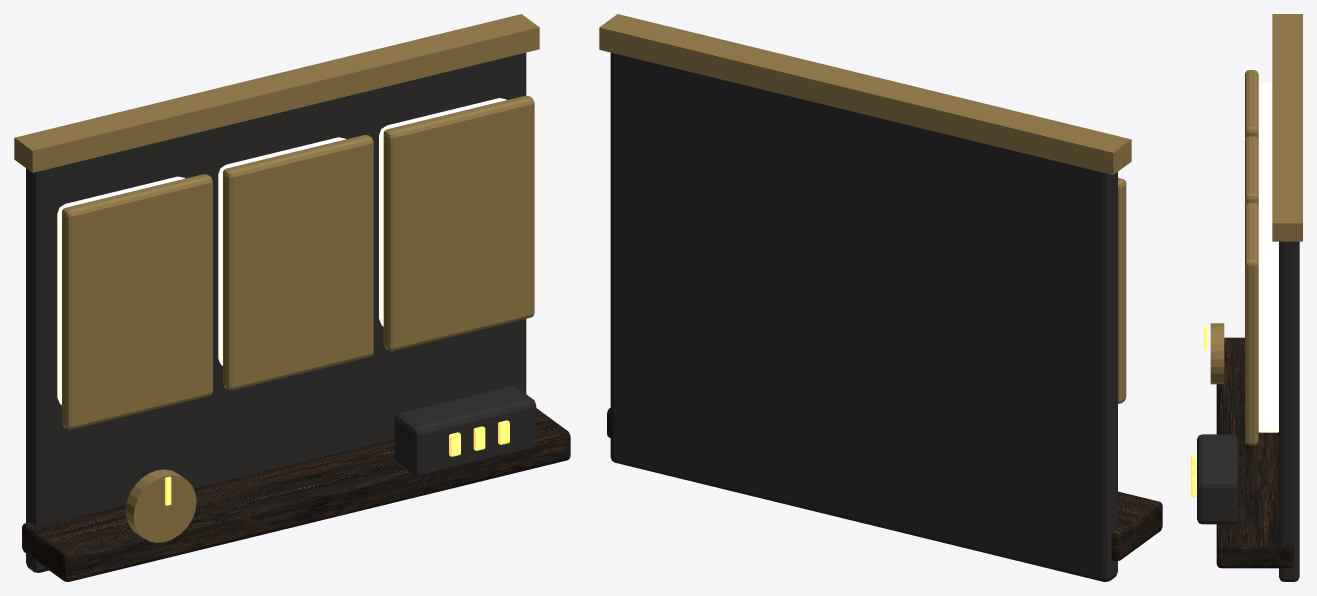
File: room_exchange.glb
The picture shows the model from 3 angles, left to right: view 1: azimuth 30°, elevation 25°; view 2: azimuth 150°, elevation 25°; view 3: azimuth 270°, elevation 25°; orthographic projection. The views are drawn at different scales.
Parts seen in each view (by area): view 1: room_exchange; view 2: room_exchange; view 3: room_exchange.
Part boxes in pixels (left/top/right/bottom): room_exchange: left=14, top=14, right=570, bottom=581; room_exchange: left=599, top=14, right=1162, bottom=581; room_exchange: left=1191, top=14, right=1302, bottom=581.
Bounding box in the file's own units: 2.9 × 2.35 × 0.655.
Materials: 5 (1 with a texture image).
